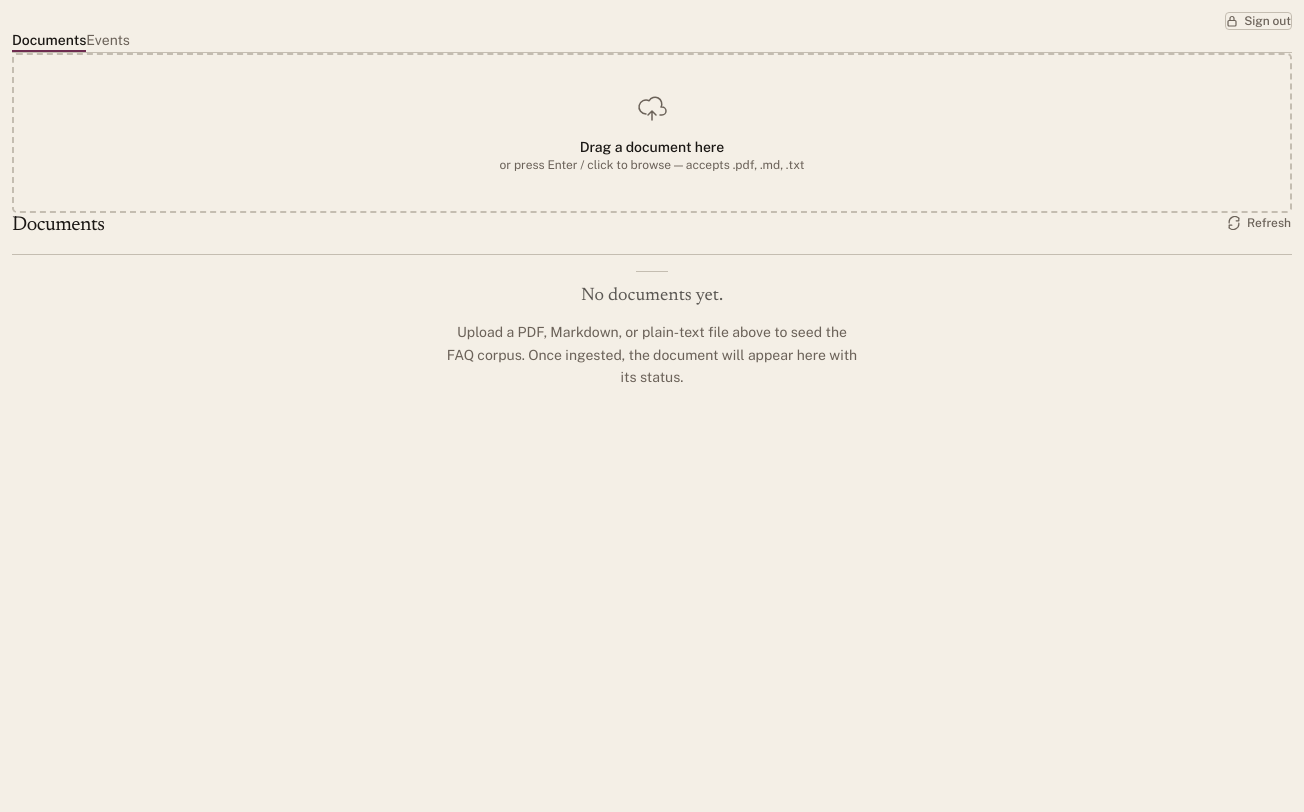
Test: events-006 — AdminConsole includes Events tab › switching to Events tab shows the Create event form
This screenshot has width=1304, height=812.
findBy* waits for the mount effect to restore the token and render the console.
Step 1. Click the tab "Events" → (108, 41), box top-left (86, 30), bottom-right (130, 52)
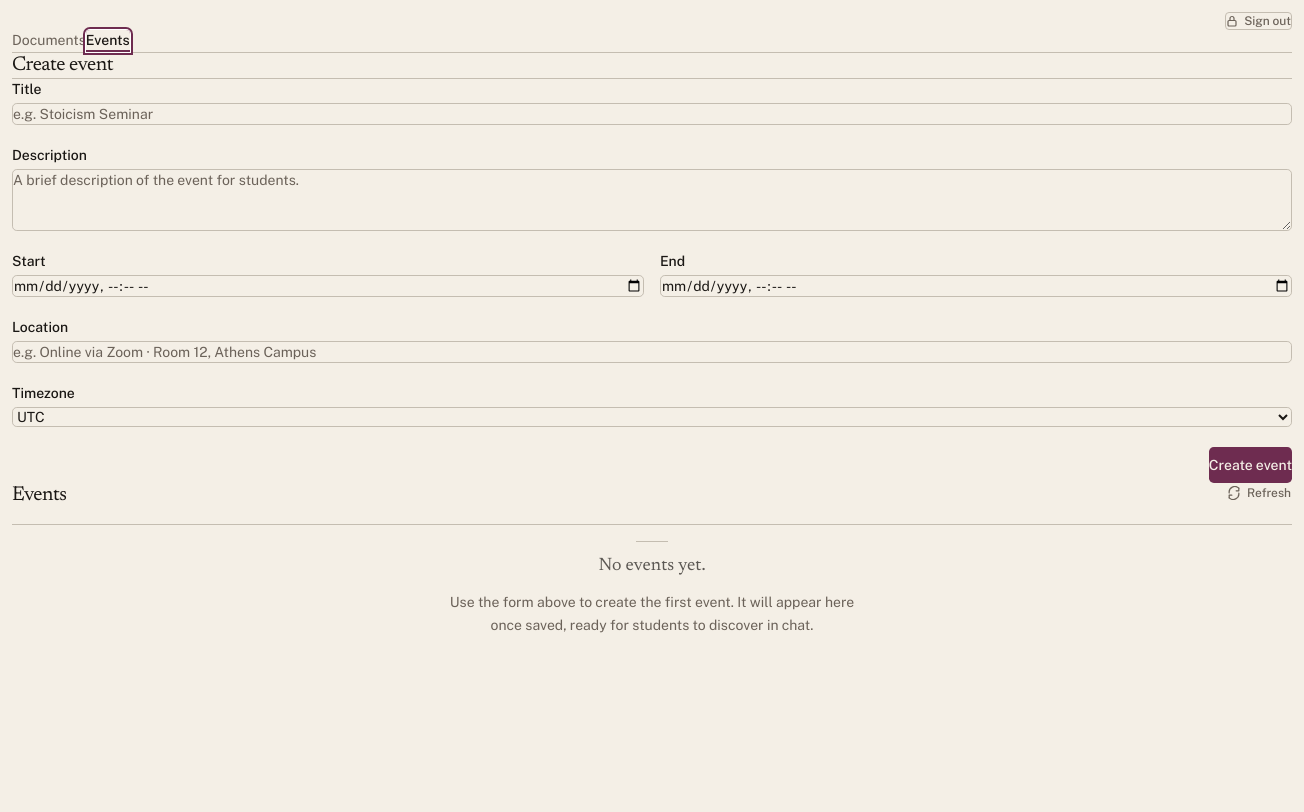
Expected: the heading "Create event" is shown, top-left (12, 55), bottom-right (113, 75)
Expected: the form "Title Description Start End Location Timezone Create event" is shown, top-left (12, 79), bottom-right (1292, 483)
